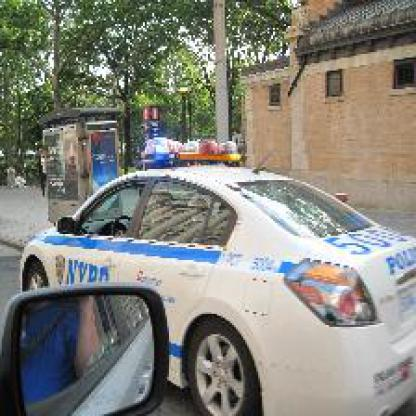emergency: (13, 135, 414, 405)
